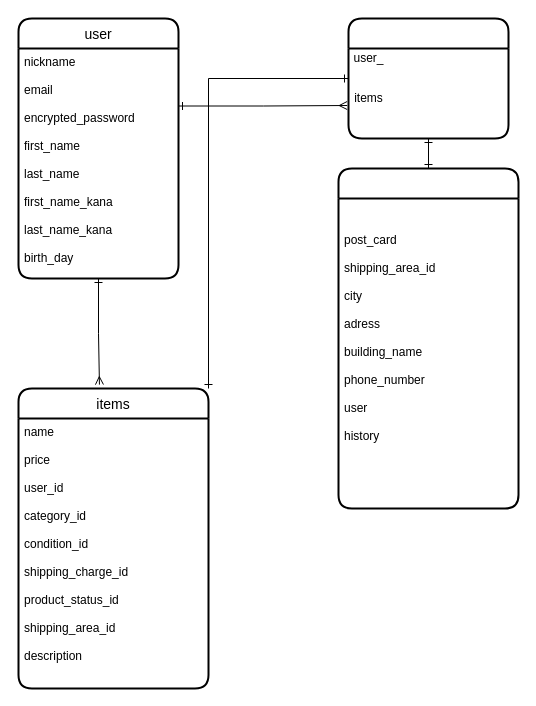
Some shapes in this 536 by 706 pixel diagram are drawn without their labels. Each missing label, with the box of its shape:
buys: (337, 167, 519, 509)
histroies: (347, 17, 509, 139)
